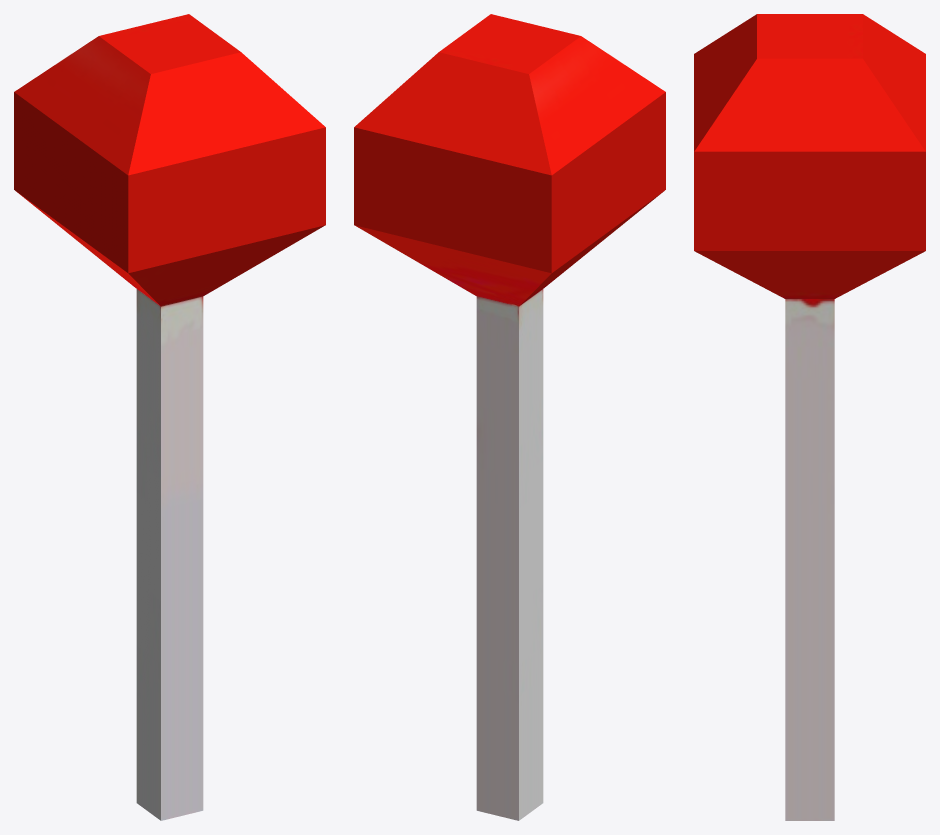
Rendered from paleta.obj.
The picture shows the model from 3 angles, left to right: view 1: azimuth 30°, elevation 25°; view 2: azimuth 150°, elevation 25°; view 3: azimuth 270°, elevation 25°; orthographic projection.
Parts seen in each view (by area): view 1: Cube; view 2: Cube; view 3: Cube.
Part boxes in pixels (left/top/right/bottom): Cube: left=14, top=14, right=325, bottom=820; Cube: left=354, top=14, right=665, bottom=820; Cube: left=694, top=14, right=925, bottom=820.
Bounding box in the file's own units: 0.4304 × 1.59 × 0.4304.
Materials: 1 (1 with a texture image).
